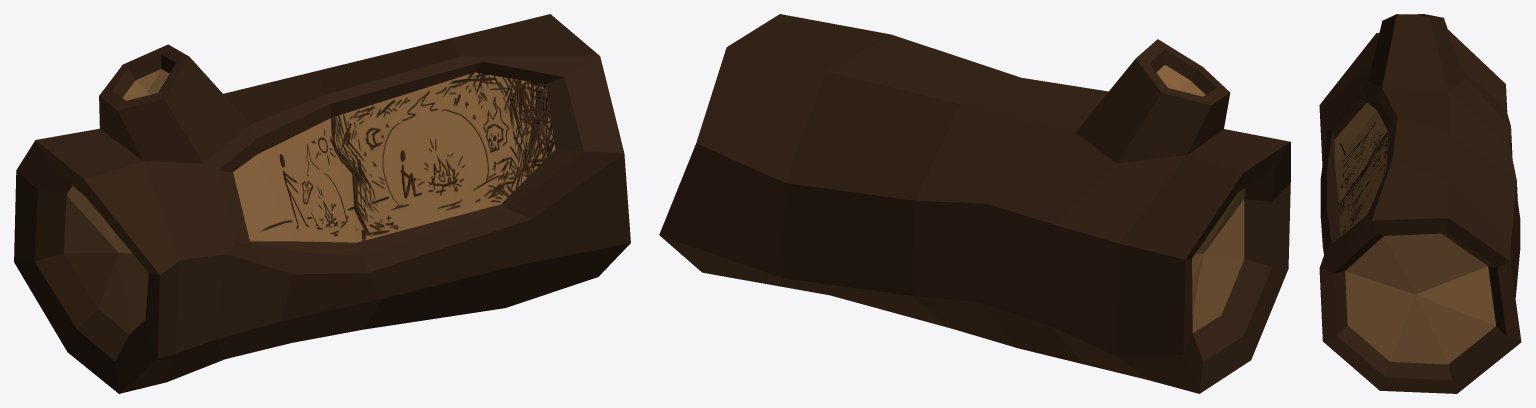
Rendered from Ent_FireLog_Model.FBX.
3 views of the same model, side by side, from view 1: azimuth 30°, elevation 25°; view 2: azimuth 150°, elevation 25°; view 3: azimuth 270°, elevation 25° (orthographic). The views are drawn at different scales.
Visible parts, largest first — view 1: Cylinder001; view 2: Cylinder001; view 3: Cylinder001.
Boxes of the visible parts, x1,y1,x2,y2 form: Cylinder001: [14, 14, 630, 393]; Cylinder001: [659, 14, 1290, 393]; Cylinder001: [1319, 14, 1521, 393].
Size of the model in its own units: 17.45 by 9.64 by 7.63.
1 material, 1 textured.
